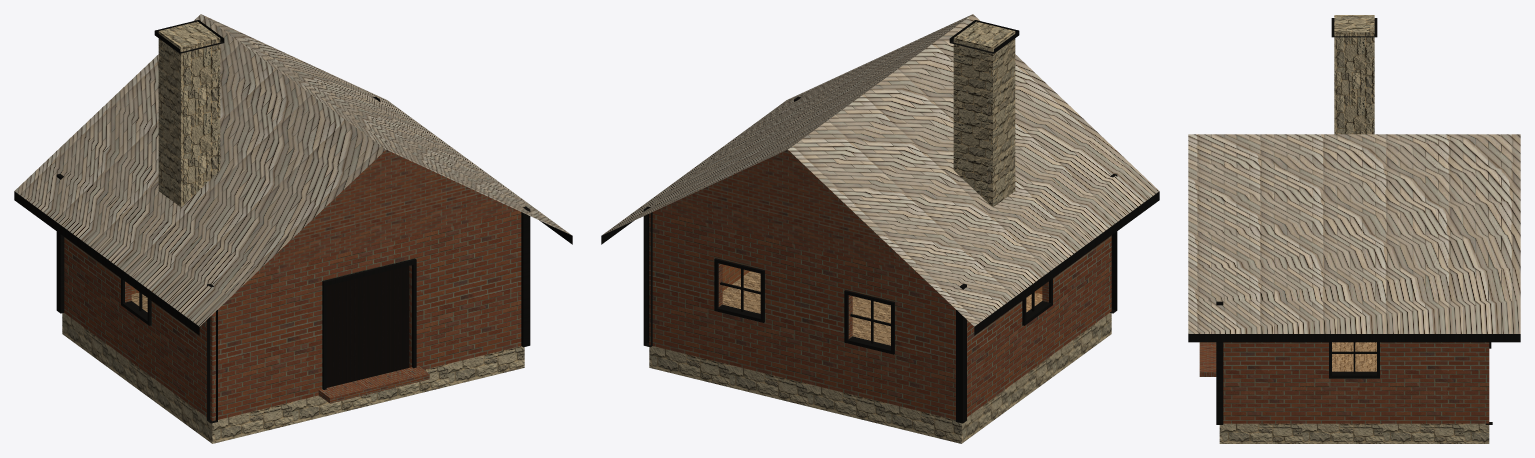
Rendered from smithy_01.glb.
The picture shows the model from 3 angles, left to right: view 1: azimuth 30°, elevation 25°; view 2: azimuth 150°, elevation 25°; view 3: azimuth 270°, elevation 25°; orthographic projection. The views are drawn at different scales.
Visible parts, largest first — view 1: smithy_01; view 2: smithy_01; view 3: smithy_01.
Boxes of the visible parts, x1,y1,x2,y2 form: smithy_01: [14, 14, 572, 443]; smithy_01: [601, 14, 1159, 443]; smithy_01: [1188, 15, 1520, 443].
Size of the model in its own units: 8.6 by 7.53 by 7.4.
6 materials, 5 textured.
